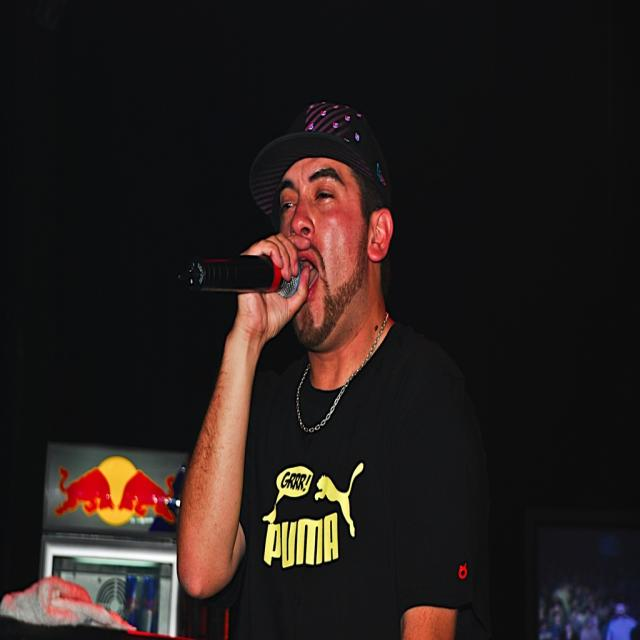no_helmet: (251, 168, 403, 228)
